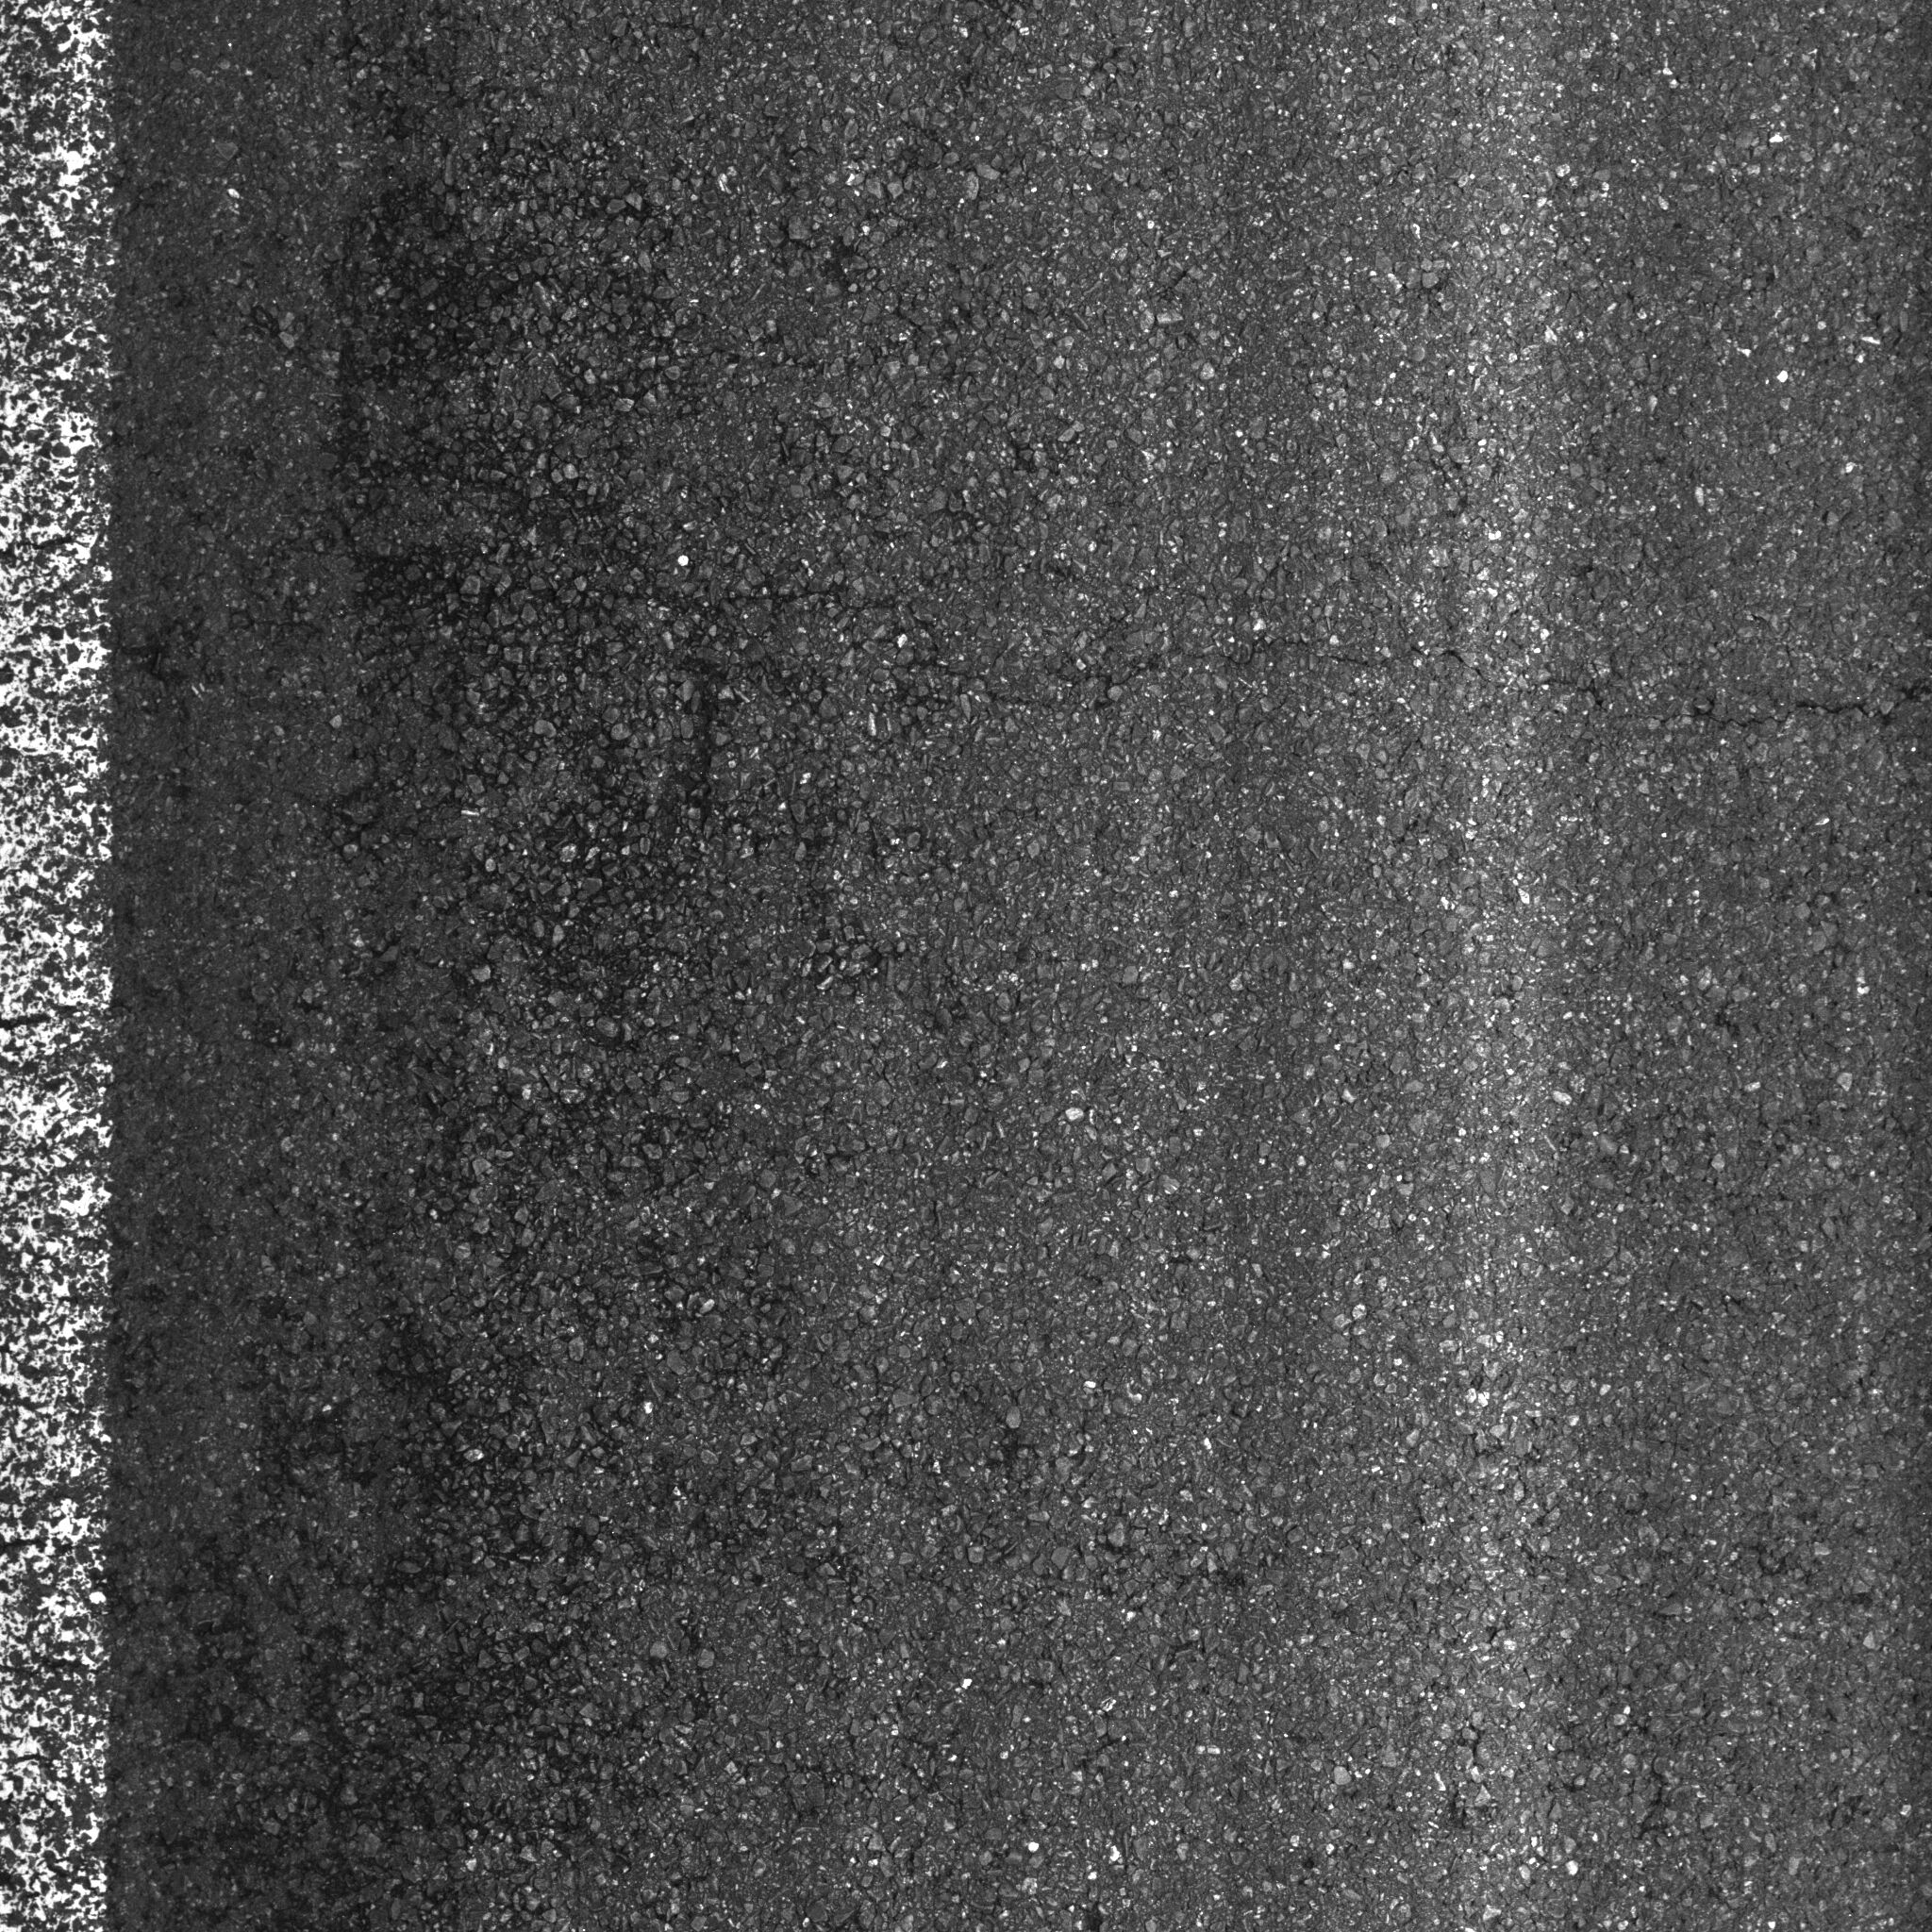transeverse: (708, 561, 1932, 786)
